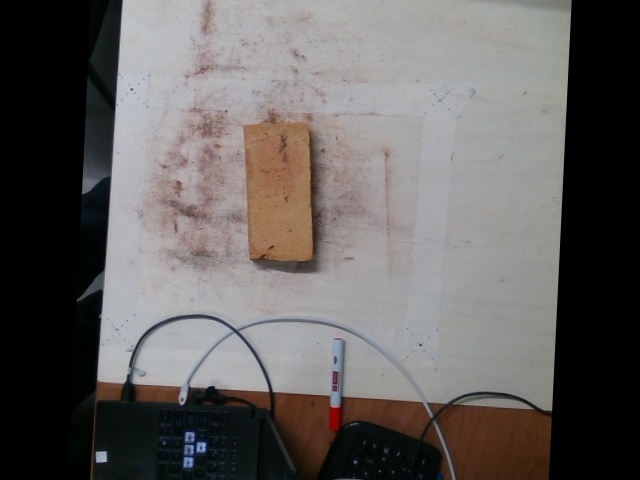brick: (244, 125, 311, 261)
